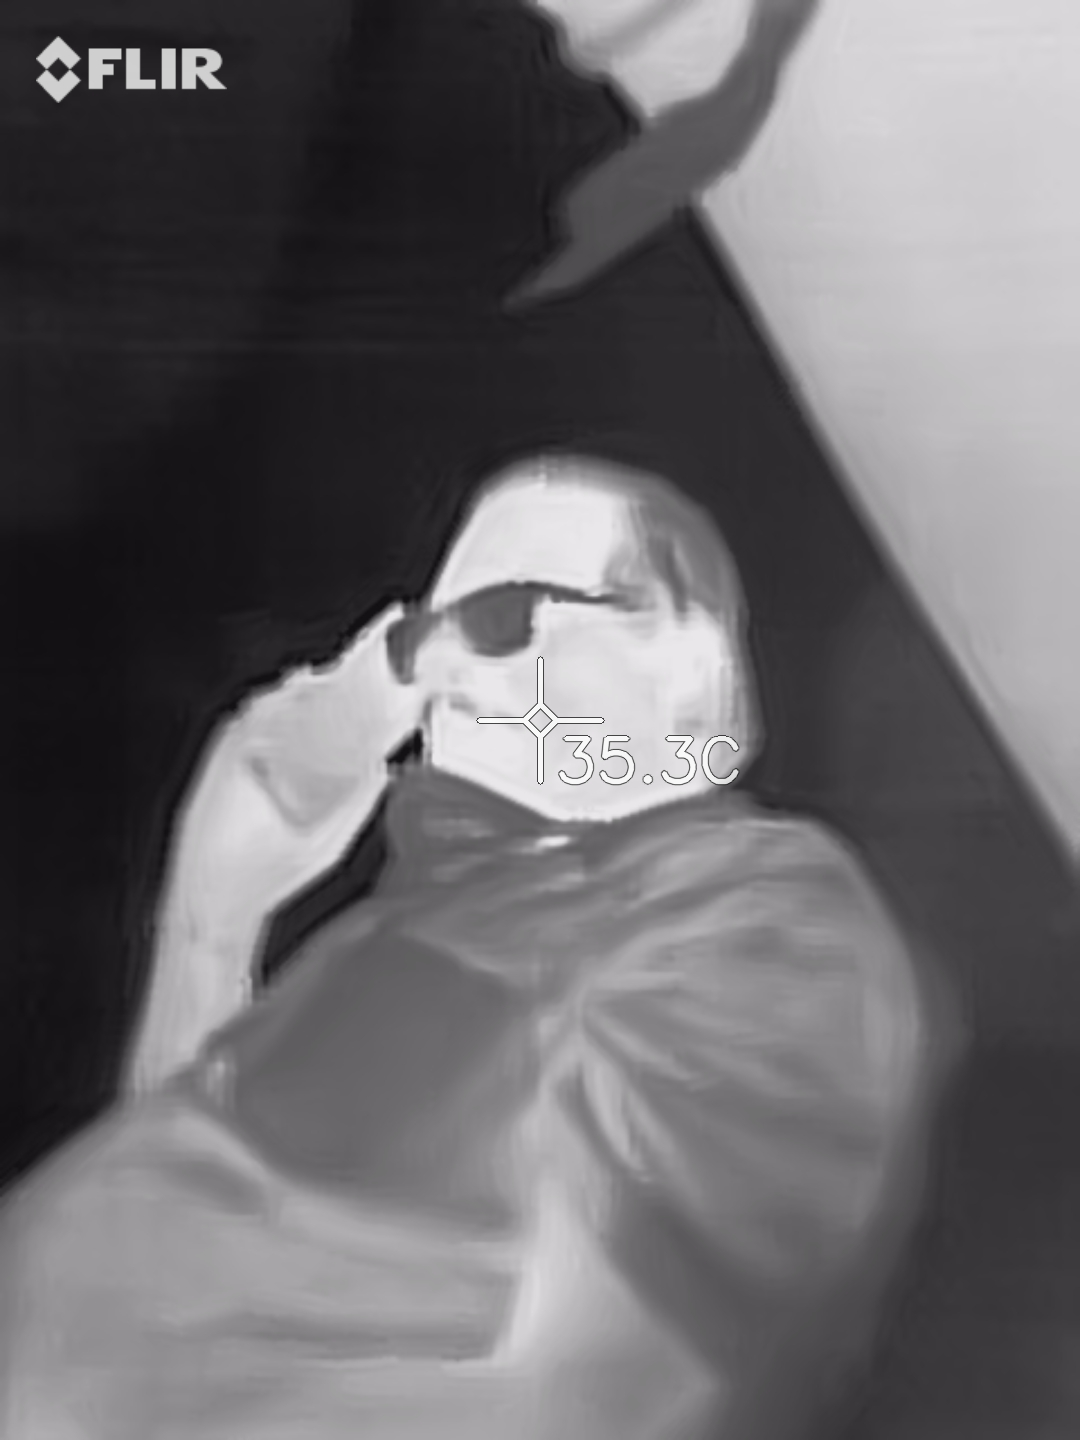head: (413, 455, 751, 821)
